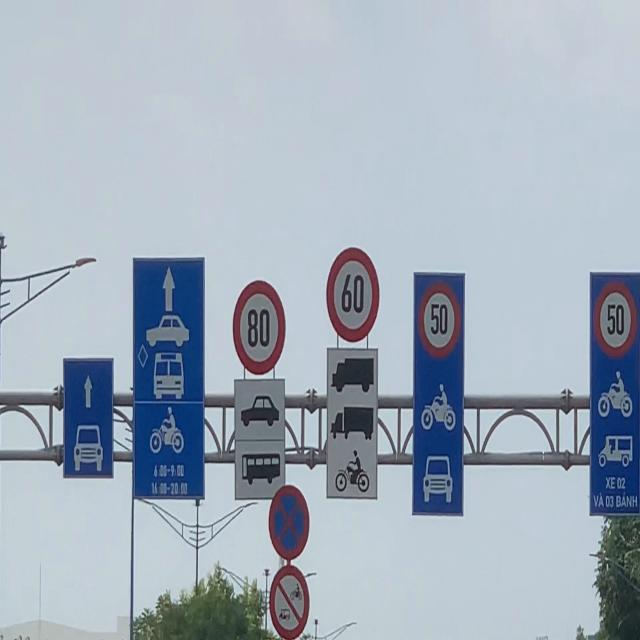Cam con lai: (270, 561, 310, 640)
Cam dung va do: (266, 483, 312, 563)
Toc do toi da: (326, 240, 384, 343), (234, 278, 288, 373), (594, 276, 638, 358), (418, 278, 460, 358)
